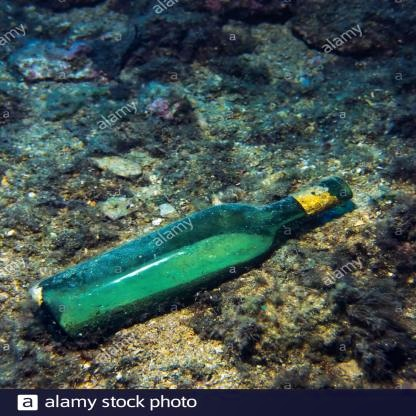gbottle: (36, 174, 357, 351)
